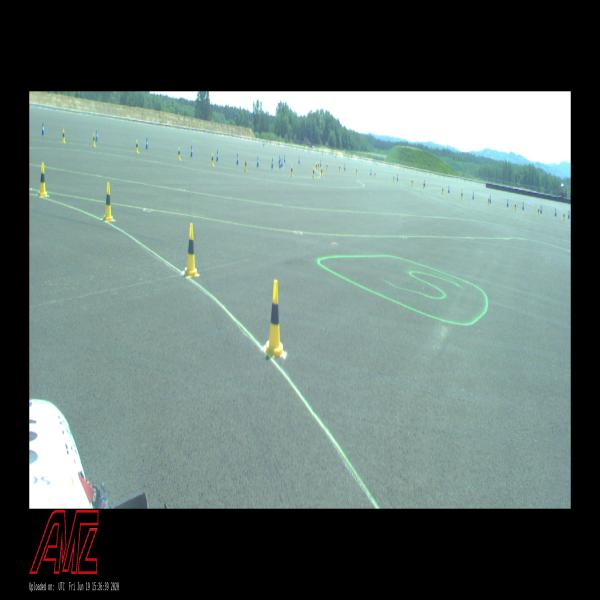blue_cone: (41, 123, 45, 135), (216, 150, 219, 162), (95, 130, 98, 142), (190, 146, 193, 157), (236, 154, 239, 164), (257, 156, 259, 167), (146, 138, 148, 149), (279, 158, 281, 169), (271, 158, 273, 168), (281, 157, 283, 167), (489, 194, 491, 203), (522, 202, 524, 210), (506, 198, 508, 206), (554, 208, 556, 216), (472, 191, 474, 199), (568, 210, 570, 218), (298, 156, 300, 164), (540, 206, 542, 214), (370, 169, 372, 175), (279, 155, 280, 164), (284, 154, 285, 162), (344, 164, 345, 171), (397, 174, 398, 181), (448, 186, 449, 192)
yellow_cone: (266, 280, 284, 357), (185, 223, 199, 277), (103, 183, 115, 221), (37, 163, 49, 196), (62, 128, 66, 144), (244, 158, 248, 172), (135, 140, 139, 152), (93, 133, 96, 147), (211, 153, 214, 166), (290, 165, 293, 177), (312, 167, 315, 178), (178, 147, 180, 160), (538, 207, 540, 216), (488, 196, 490, 205), (563, 212, 565, 220), (326, 163, 328, 170), (411, 179, 413, 186), (374, 172, 376, 178), (321, 166, 322, 177), (316, 162, 317, 171), (515, 202, 516, 211), (339, 164, 340, 172), (461, 190, 462, 198), (442, 186, 443, 194), (423, 181, 424, 189), (356, 168, 357, 175), (393, 175, 394, 182), (318, 163, 319, 170)
